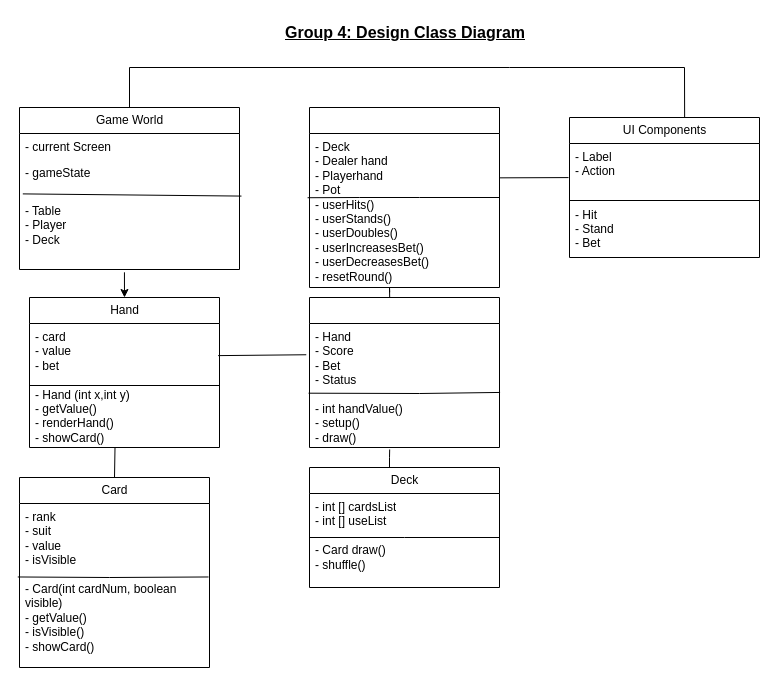
This 778x687 diagram has some shape labels left out. The shapes that lost their labels are listed below. From the top down, each one's box as (x1, y1, x2, y2) in pixels, then its label:
(308, 106, 500, 288): Table
(308, 296, 500, 448): Player
